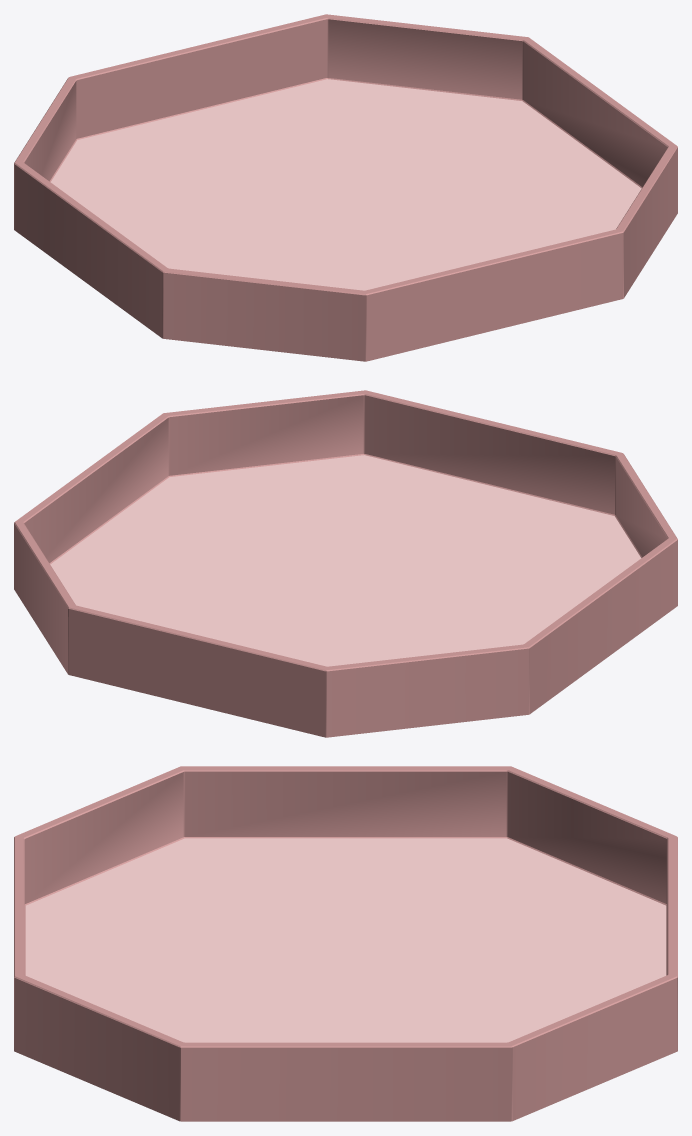
File: octagon.fbx
3 renders of one model, top to bottom at view 1: azimuth 30°, elevation 25°; view 2: azimuth 150°, elevation 25°; view 3: azimuth 270°, elevation 25°, orthographic. The views are drawn at different scales.
Parts seen in each view (by area): view 1: Table_Octagon.001, Table_Octagon.005, Table_Octagon.009, Table_Octagon.006, Table_Octagon.002, Table_Octagon.007, Table_Octagon.003, Table_Octagon.004, Table_Octagon.008; view 2: Table_Octagon.001, Table_Octagon.009, Table_Octagon.005, Table_Octagon.008, Table_Octagon.004, Table_Octagon.007, Table_Octagon.003, Table_Octagon.002, Table_Octagon.006; view 3: Table_Octagon.001, Table_Octagon.003, Table_Octagon.007, Table_Octagon.004, Table_Octagon.002, Table_Octagon.008, Table_Octagon.006, Table_Octagon.009, Table_Octagon.005.
Part boxes in pixels (x1,y1,x2,y2): Table_Octagon.001: (50,79,641,290); Table_Octagon.005: (365,229,623,361); Table_Octagon.009: (70,14,328,139); Table_Octagon.006: (163,268,366,361); Table_Octagon.002: (326,14,528,100); Table_Octagon.007: (14,162,168,338); Table_Octagon.003: (522,37,676,188); Table_Octagon.004: (616,146,677,297); Table_Octagon.008: (14,77,76,229); Table_Octagon.001: (50,455,641,666); Table_Octagon.009: (68,605,326,737); Table_Octagon.005: (363,390,621,515); Table_Octagon.008: (326,644,529,737); Table_Octagon.004: (163,390,365,476); Table_Octagon.007: (524,538,677,713); Table_Octagon.003: (15,413,169,564); Table_Octagon.002: (14,522,75,673); Table_Octagon.006: (614,453,677,557); Table_Octagon.001: (25,838,666,1042); Table_Octagon.003: (180,1042,512,1121); Table_Octagon.007: (180,766,511,838); Table_Octagon.004: (14,975,184,1121); Table_Octagon.002: (508,975,677,1120); Table_Octagon.008: (506,766,675,905); Table_Octagon.006: (16,766,184,905); Table_Octagon.009: (666,836,677,1051); Table_Octagon.005: (14,836,25,1051).
Size of the model in its own units: 2654 by 330 by 2654.
